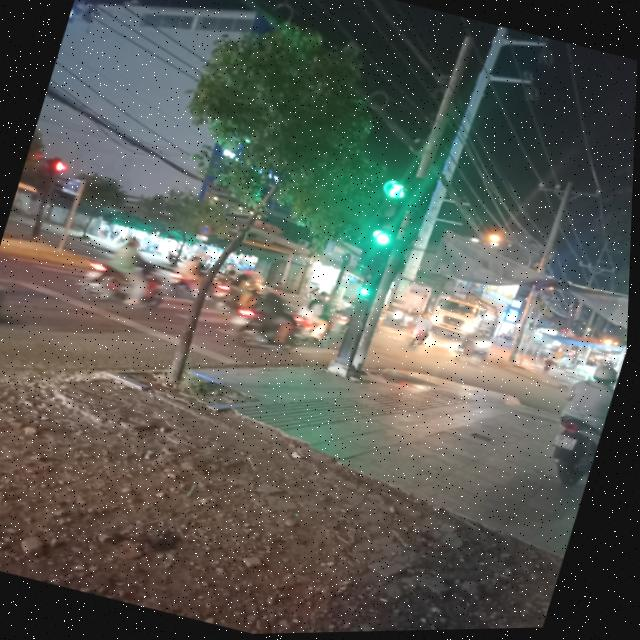Green: (365, 197, 408, 256), (350, 268, 387, 313)
